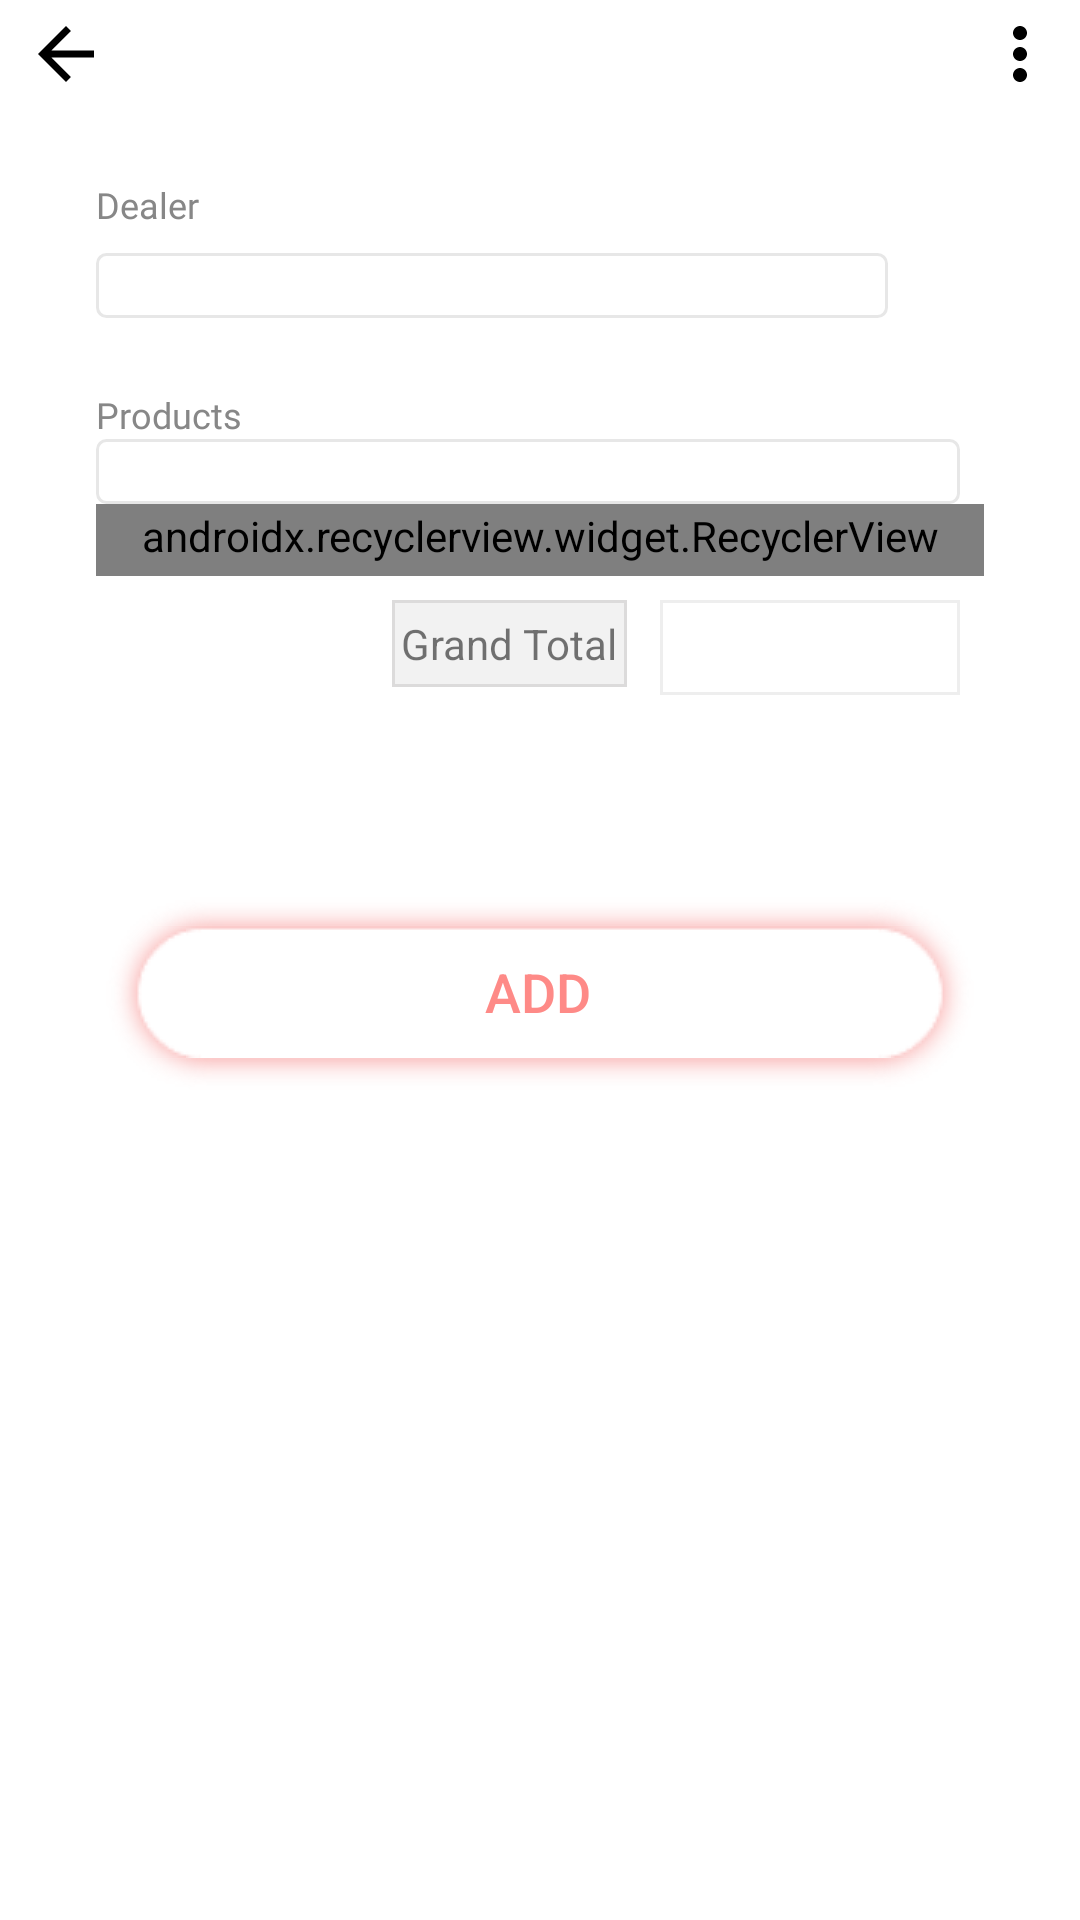

Screen size 1080 x 1920. Icon name, then its box in pixels as bbox(x1, y1, x2, y2):
arrow back: bbox(38, 26, 94, 82)
more: bbox(1013, 26, 1027, 82)
